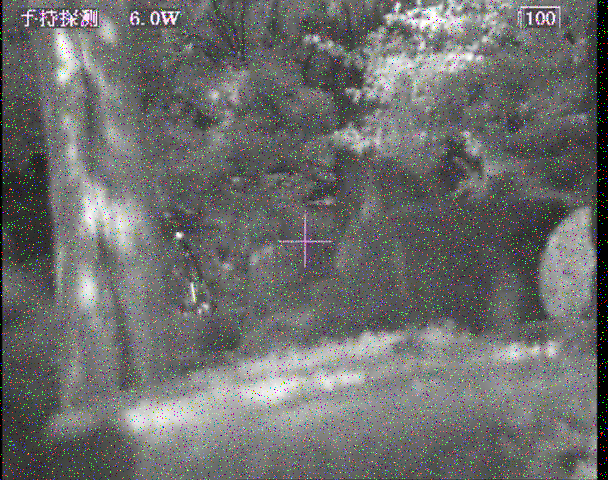my: (174, 231, 183, 241)
